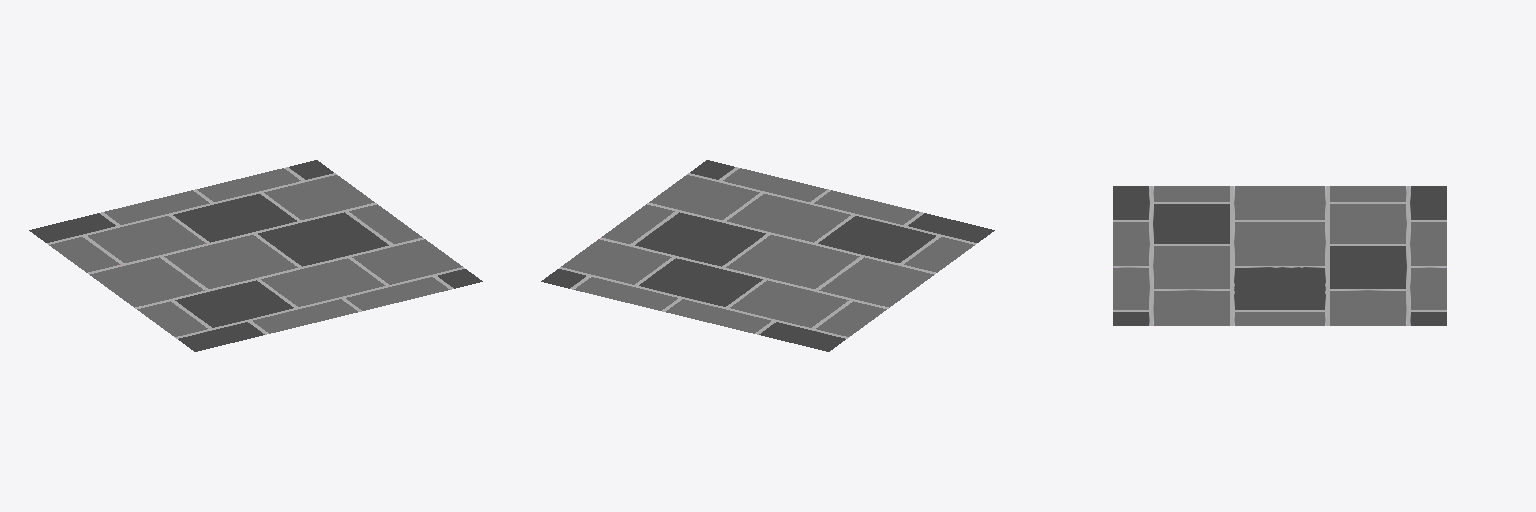
3 views of the same model, side by side, from view 1: azimuth 30°, elevation 25°; view 2: azimuth 150°, elevation 25°; view 3: azimuth 270°, elevation 25° (orthographic).
Parts seen in each view (by area): view 1: 平面; view 2: 平面; view 3: 平面.
Part boxes in pixels (bbox=[...]): 平面: bbox=[29, 160, 482, 351]; 平面: bbox=[541, 160, 994, 351]; 平面: bbox=[1113, 186, 1446, 325].
Bounding box in the file's own units: 2 × 0 × 2.
Materials: 1 (1 with a texture image).